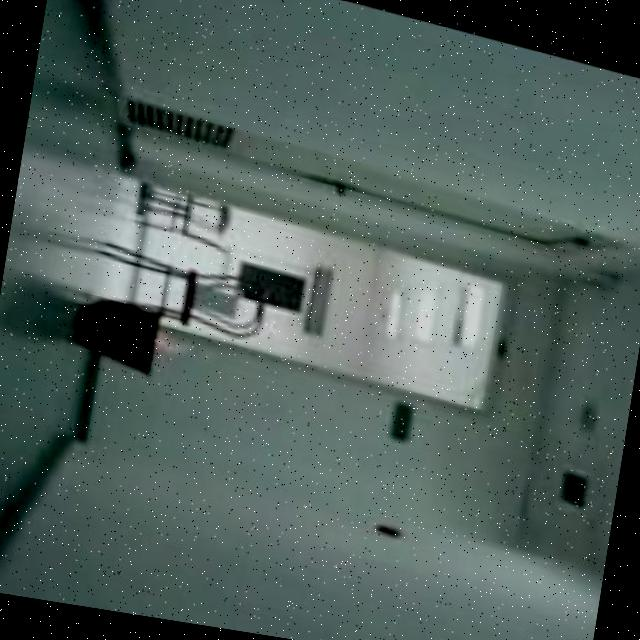fire: (155, 328, 199, 364)
